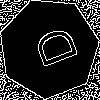D: (24, 23, 79, 74)
